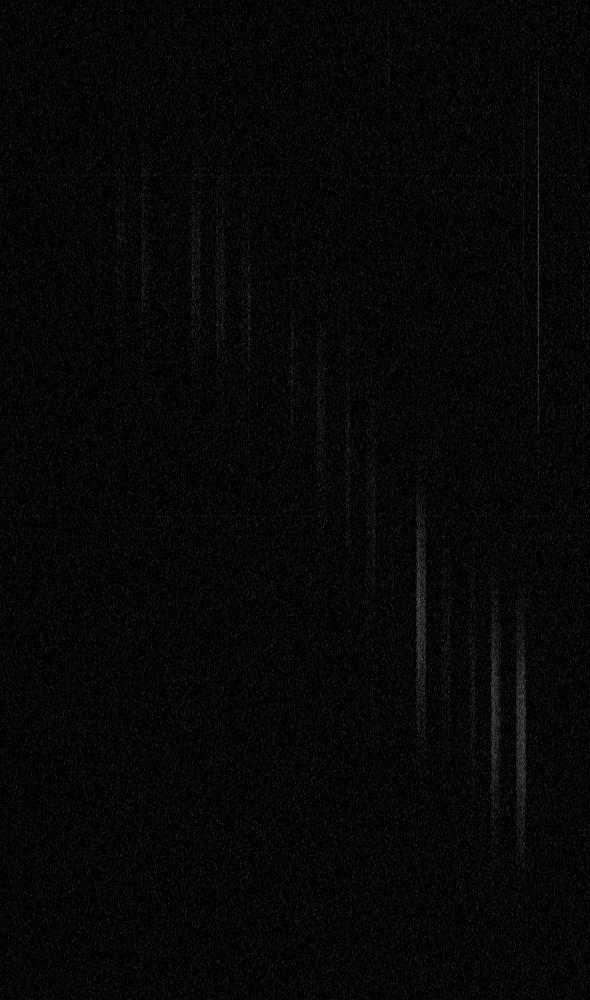signal: (0, 0, 589, 999)
